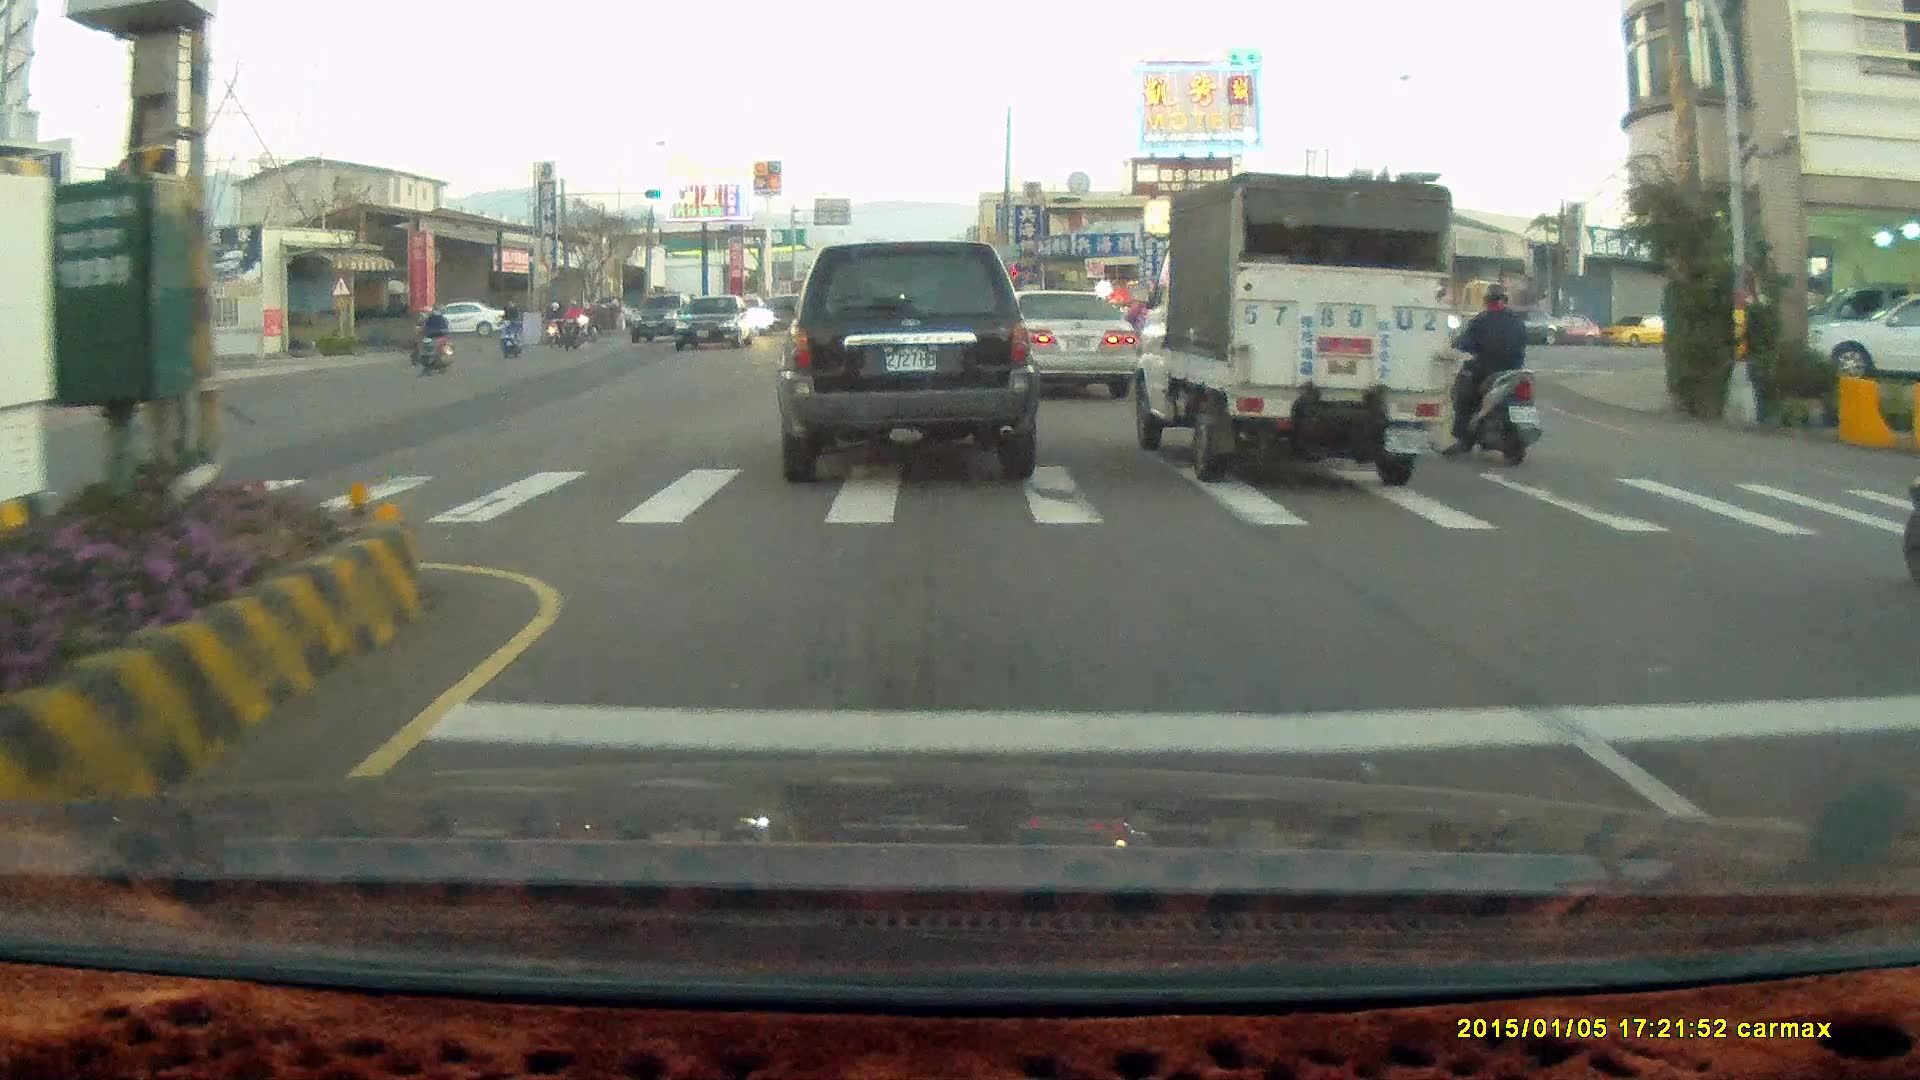rider: (1435, 280, 1543, 473), (420, 306, 454, 372), (494, 299, 521, 359), (558, 297, 586, 350), (541, 298, 568, 347)
vehicle: (1129, 169, 1452, 483), (775, 238, 1042, 481), (987, 288, 1133, 397), (1013, 290, 1139, 401), (1804, 292, 1920, 385), (39, 314, 135, 398), (673, 294, 755, 353), (1464, 308, 1571, 349), (432, 302, 508, 340)
